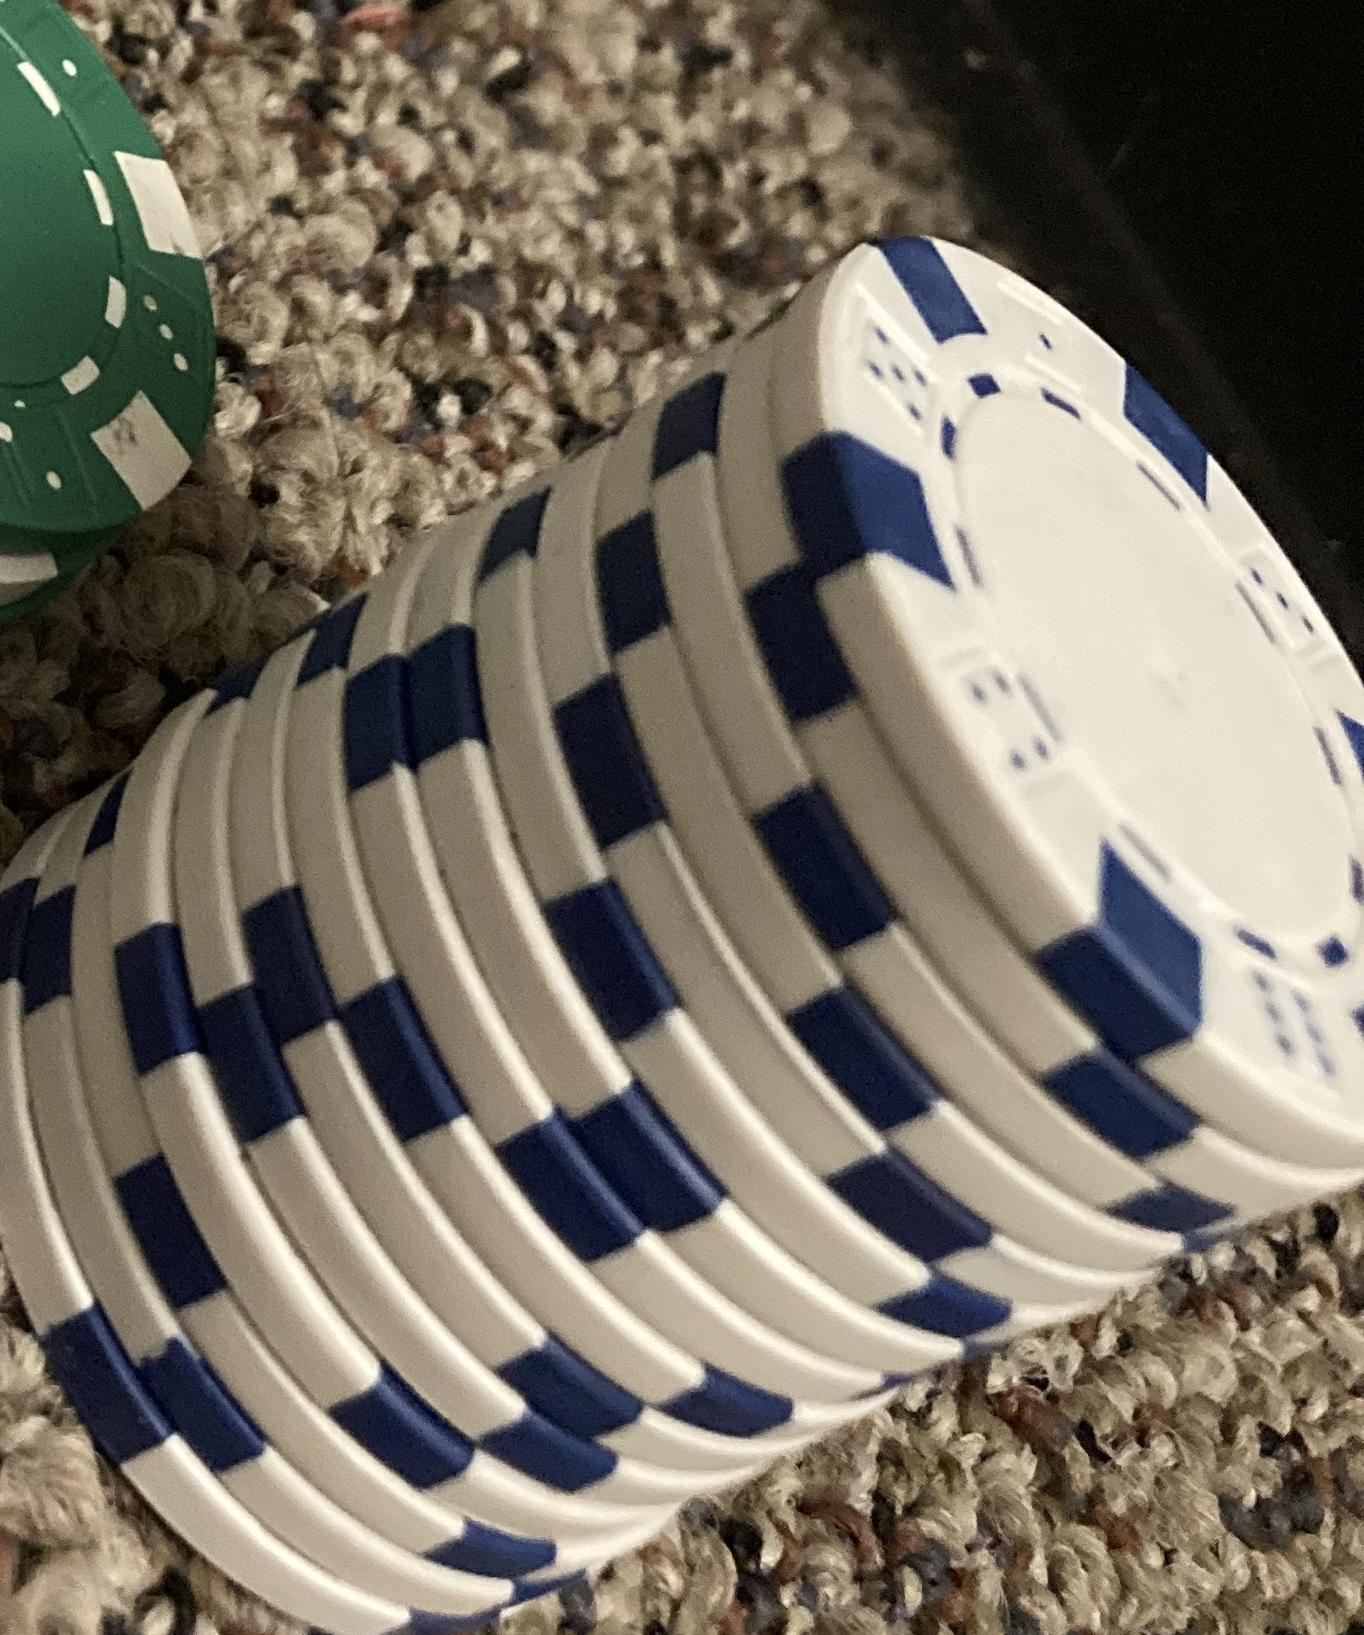Chip: (1, 1, 1364, 1635)
